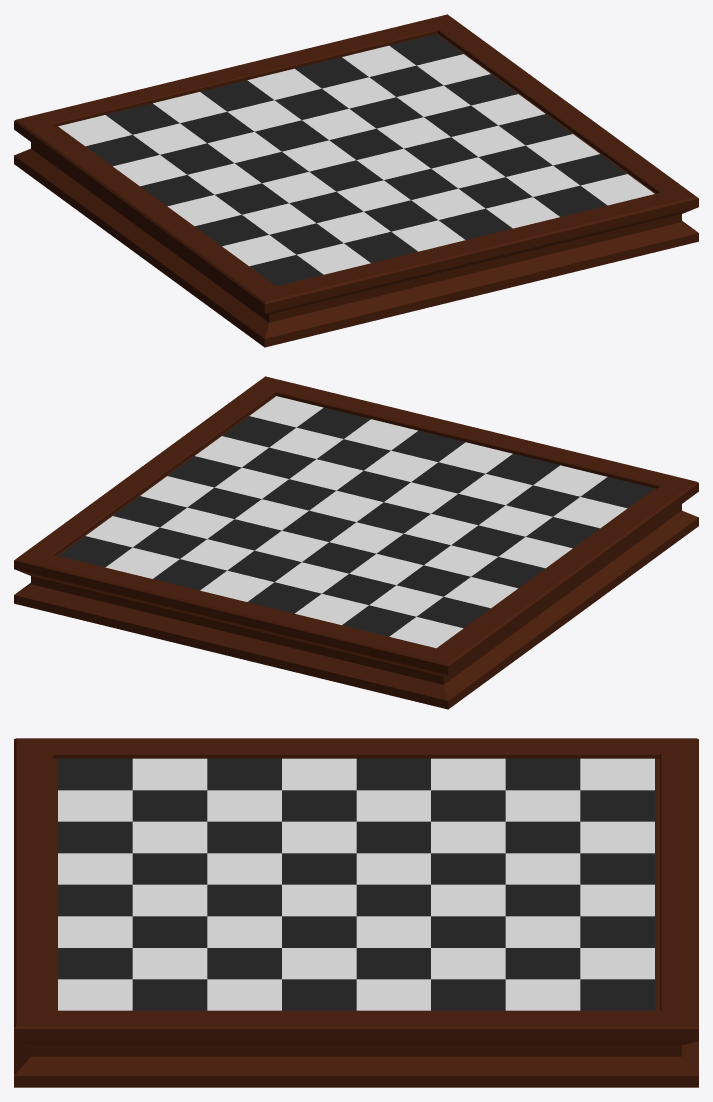
File: Echec.fbx
3 renders of one model, top to bottom at view 1: azimuth 30°, elevation 25°; view 2: azimuth 150°, elevation 25°; view 3: azimuth 270°, elevation 25°, orthographic. The views are drawn at different scales.
Visible parts, largest first — view 1: EchecPlateau; view 2: EchecPlateau; view 3: EchecPlateau.
Part boxes in pixels (box(x1,y1,x2,y2)): EchecPlateau: box(14, 14, 698, 347); EchecPlateau: box(14, 376, 698, 709); EchecPlateau: box(14, 738, 698, 1087).
Bounding box in the file's own units: 55.08 × 5.43 × 55.08.
